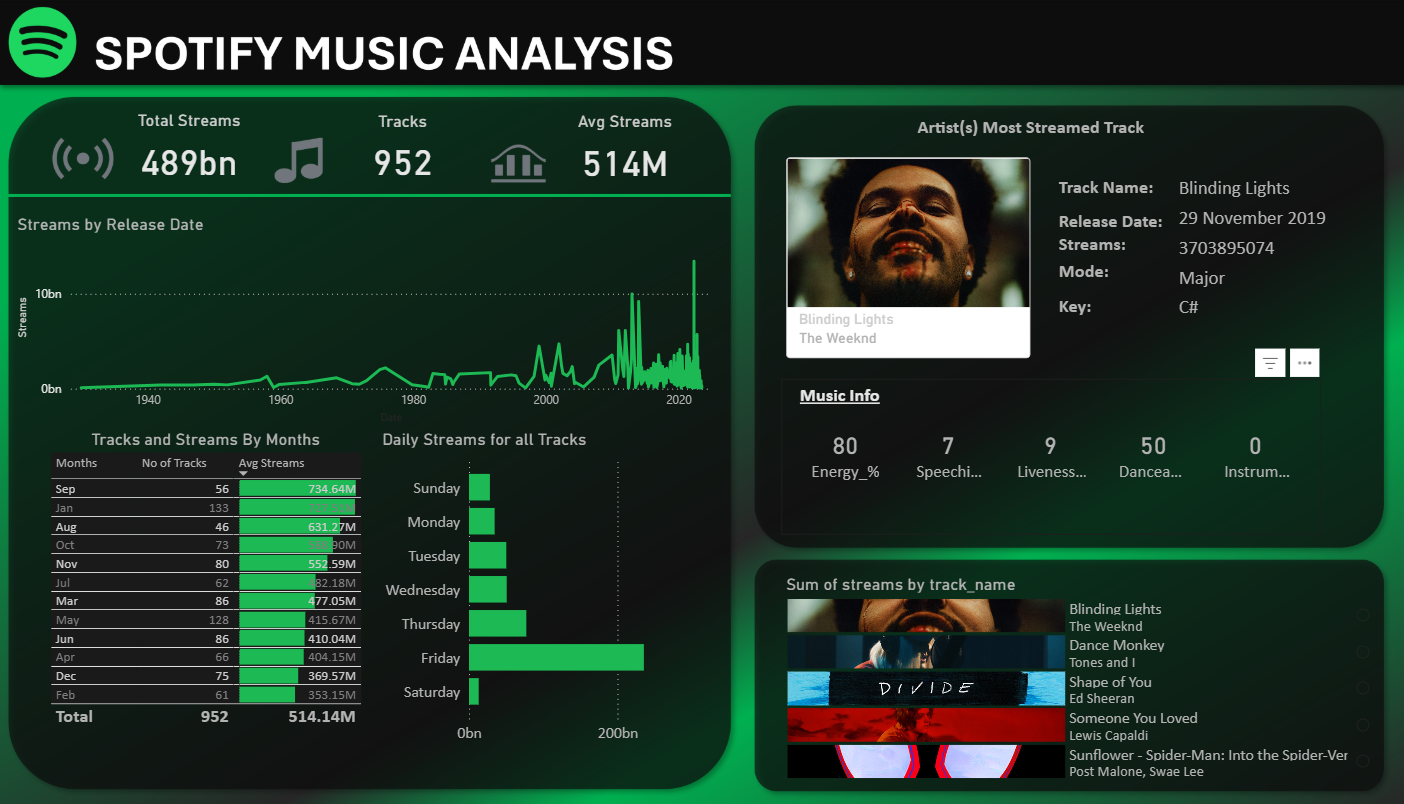

The dashboard page shown, as its layout file describes it:
{"tool":"powerbi","page":{"name":"Page 1","canvas":[1440,820],"ordinal":0},"visuals":[{"type":"cardVisual","title":"Total Streams","fields":{"Data":["Sum(Spotify Dataset.streams)"]},"box":[113,111.6,168.1,84.1],"z":0},{"type":"cardVisual","title":"Avg Streams","fields":{"Data":["Avg(Spotify Dataset.streams)"]},"box":[542,113,192.8,84.1],"z":1000},{"type":"cardVisual","title":"Tracks","fields":{"Data":["CountNonNull(Spotify Dataset.track_name)"]},"box":[336.2,113,155.1,82.6],"z":2000},{"type":"lineChart","title":"Streams by Release Date","fields":{"Category":["Calendar.Date"],"Y":["Sum(Spotify Dataset.streams)"]},"box":[17.4,217.4,717.4,217.4],"z":3000},{"type":"tableEx","title":"Tracks and Streams By Months","fields":{"Values":["Calendar.MonthName","Spotify Dataset.track_name","Avg(Spotify Dataset.streams)"]},"box":[50.7,434.8,326.1,327.5],"z":4000},{"type":"clusteredBarChart","title":"Daily Streams for all Tracks","fields":{"Y":["Sum(Spotify Dataset.streams)"],"Category":["Calendar.DayName"]},"box":[388.4,434.8,344.9,327.5],"z":5000},{"type":"textbox","box":[930.9,113.2,285.3,39.7],"z":6000},{"type":"advancedSlicerVisual","fields":{"Values":["Spotify Dataset.track_name"],"Label":["Sum(Spotify Dataset.streams)"]},"box":[797.1,154.4,258.8,214.7],"z":7000},{"type":"multiRowCard","fields":{"Values":["Spotify Dataset.track_name","Spotify Dataset.Date","Sum(Spotify Dataset.streams)","Spotify Dataset.mode","Spotify Dataset.key"]},"box":[1195.6,173.5,180.9,169.1],"z":8000},{"type":"textbox","box":[1073.5,173.5,122.1,44.1],"z":9000},{"type":"textbox","box":[1073.5,230.9,122.1,35.3],"z":10000},{"type":"textbox","box":[1073.5,207.4,132.4,47.1],"z":11000},{"type":"textbox","box":[1073.5,258.8,111.8,48.5],"z":12000},{"type":"textbox","box":[1073.5,294.1,132.4,48.5],"z":13000},{"type":"cardVisual","fields":{"Data":["Sum(Spotify Dataset.energy_%)","Sum(Spotify Dataset.speechiness_%)","Sum(Spotify Dataset.liveness_%)","Sum(Spotify Dataset.danceability_%)","Sum(Spotify Dataset.instrumentalness_%)"]},"box":[797.1,383.8,548.5,158.8],"z":14000},{"type":"textbox","box":[811.8,383.8,119.1,39.7],"z":15000},{"type":"listSlicer","fields":{"Values":["Spotify Dataset.track_name"]},"box":[797.1,582.4,604.4,214.7],"z":16000}]}

Visuals, with their boxes in screenshot pixels (x1, y1, x2, y2), scaled from the page's 1440x820 canvas onto the 1404x804 screenshot:
"Total Streams" cardVisual: detection(110, 109, 274, 192)
"Avg Streams" cardVisual: detection(528, 111, 716, 193)
"Tracks" cardVisual: detection(328, 111, 479, 192)
"Streams by Release Date" lineChart: detection(17, 213, 716, 426)
"Tracks and Streams By Months" tableEx: detection(49, 426, 367, 747)
"Daily Streams for all Tracks" clusteredBarChart: detection(379, 426, 715, 747)
textbox: detection(908, 111, 1186, 150)
advancedSlicerVisual - Spotify Dataset.track_name x Sum(Spotify Dataset.streams): detection(777, 151, 1030, 362)
multiRowCard - Spotify Dataset.track_name x Spotify Dataset.Date: detection(1166, 170, 1342, 336)
textbox: detection(1047, 170, 1166, 213)
textbox: detection(1047, 226, 1166, 261)
textbox: detection(1047, 203, 1176, 250)
textbox: detection(1047, 254, 1156, 301)
textbox: detection(1047, 288, 1176, 336)
cardVisual - Sum(Spotify Dataset.energy_%) x Sum(Spotify Dataset.speechiness_%): detection(777, 376, 1312, 532)
textbox: detection(792, 376, 908, 415)
listSlicer - Spotify Dataset.track_name: detection(777, 571, 1366, 782)
